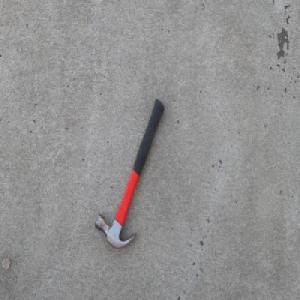Hammer: (94, 98, 164, 251)
